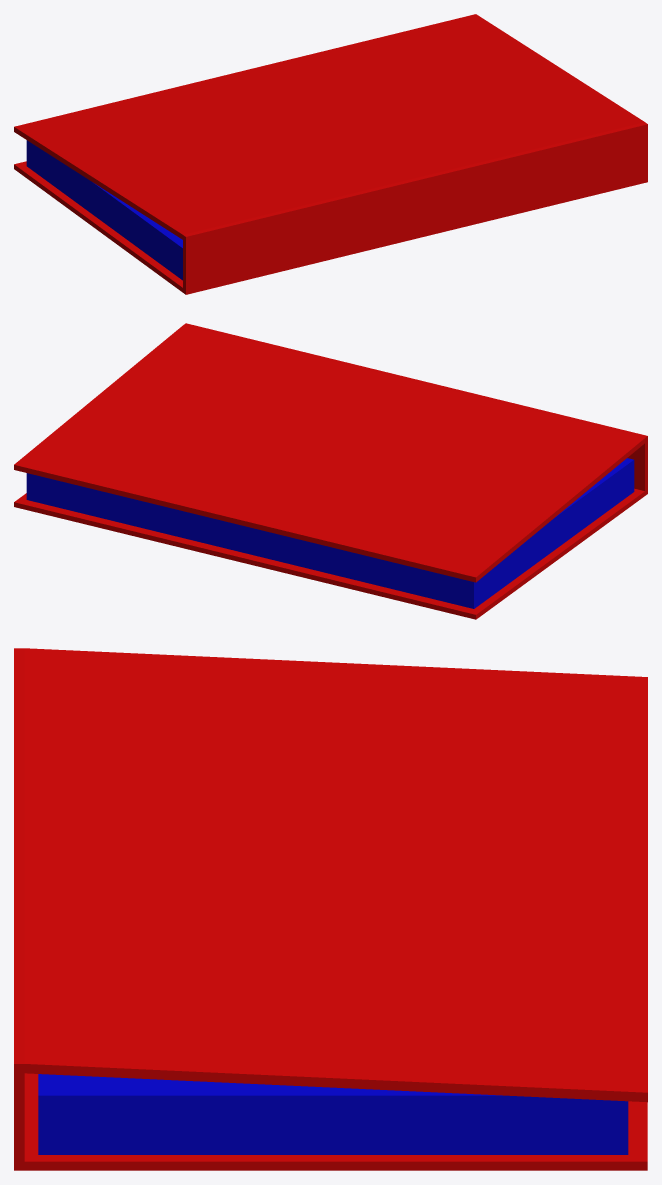
The model's file is Induction Manual.fbx.
3 views of the same model, one above another, from view 1: azimuth 30°, elevation 25°; view 2: azimuth 150°, elevation 25°; view 3: azimuth 270°, elevation 25° (orthographic). The views are drawn at different scales.
Visible parts, largest first — view 1: Cube.001; view 2: Cube.001; view 3: Cube.001.
Part boxes in pixels (x1,y1,x2,y2): Cube.001: [14, 14, 647, 294]; Cube.001: [14, 323, 647, 619]; Cube.001: [14, 648, 647, 1170].
Bounding box in the file's own units: 60 × 7.19 × 38.68.
